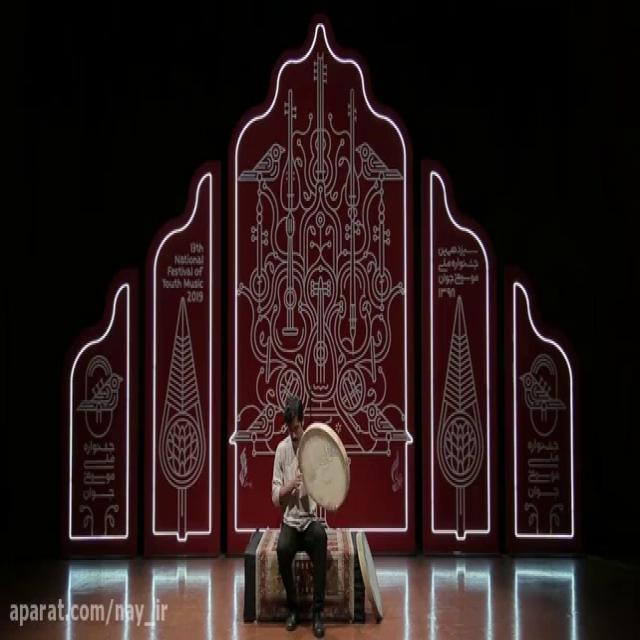Daf: (294, 433, 358, 523)
